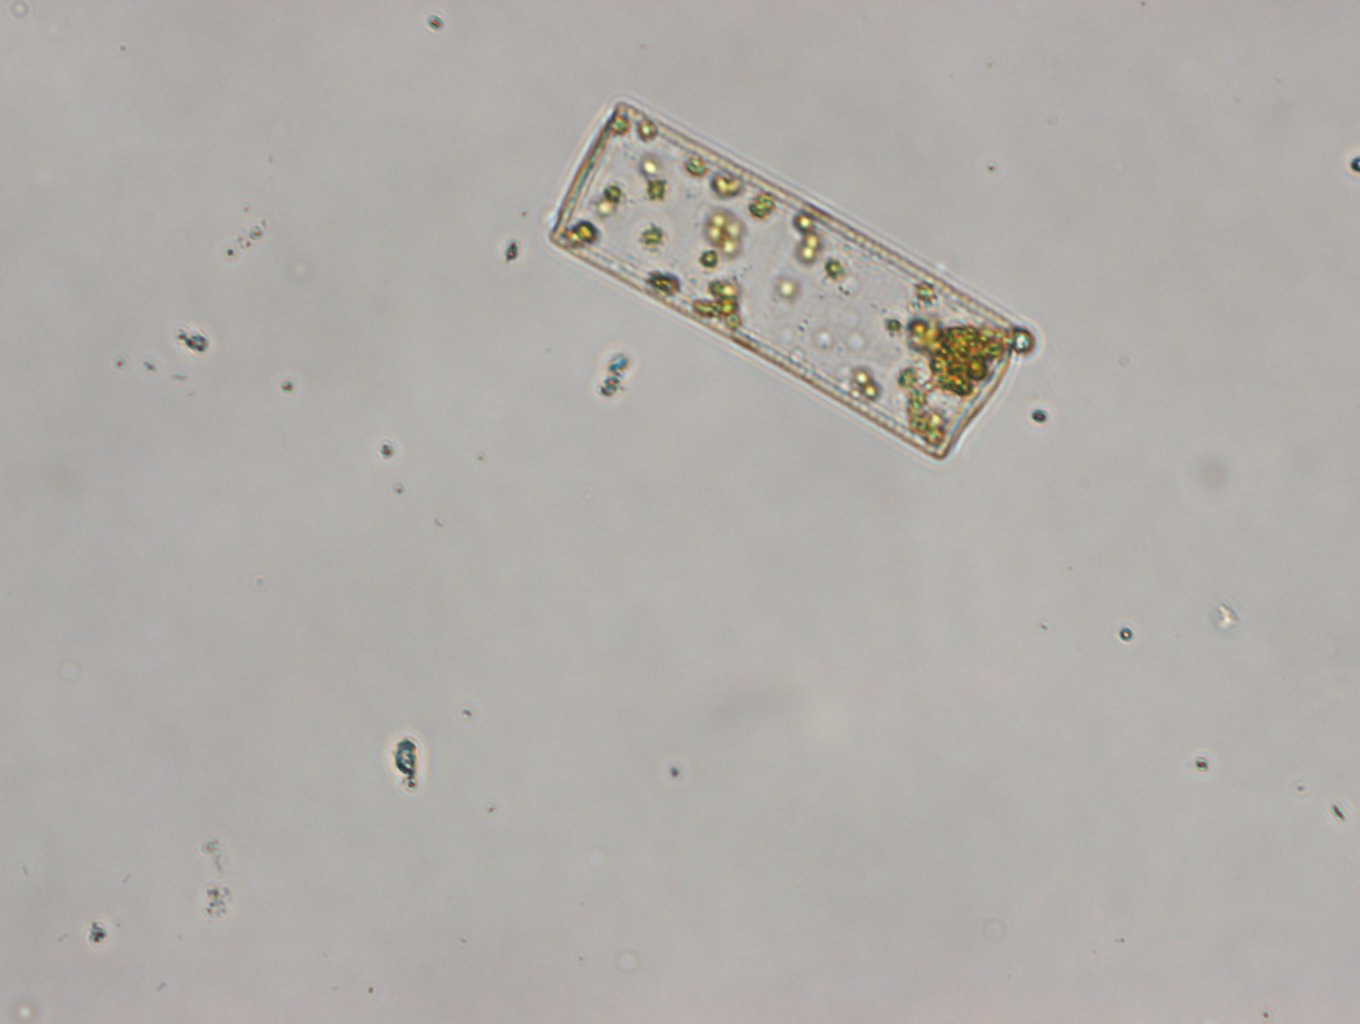guinardia flaccida: (547, 97, 1023, 465)
